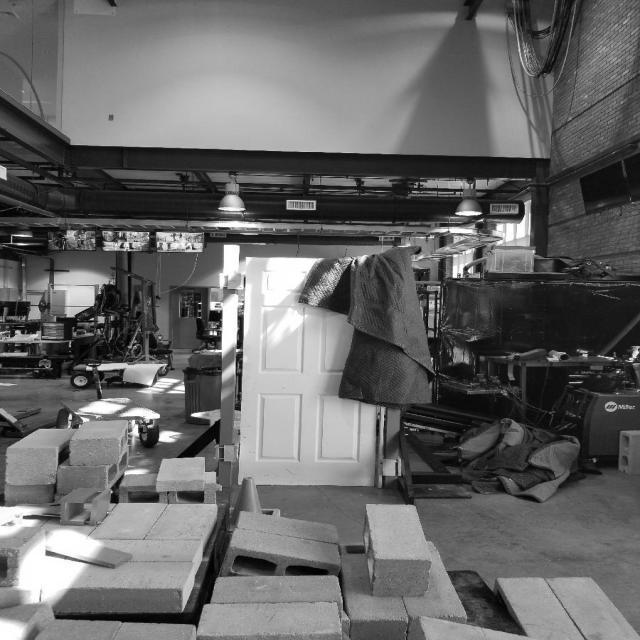door: (236, 251, 382, 491), (351, 378, 371, 393)
